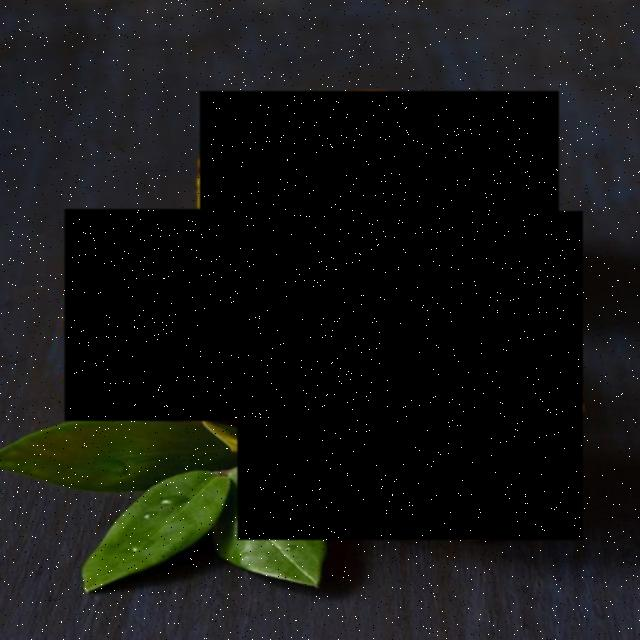Lemon: (237, 211, 583, 540), (200, 91, 559, 264), (65, 209, 328, 421)
